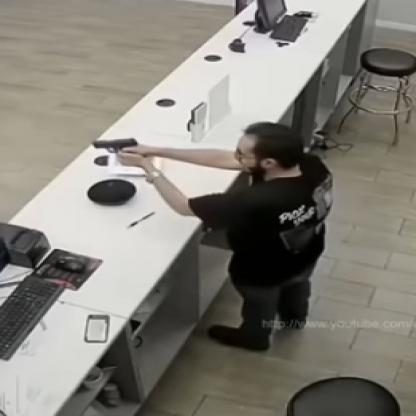criminal: (91, 122, 335, 352)
weapon: (91, 136, 141, 162)
